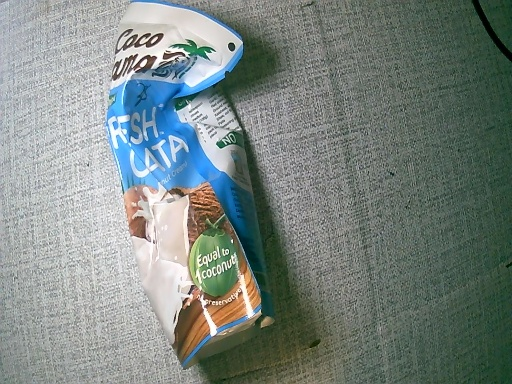plastic: (102, 1, 279, 370)
